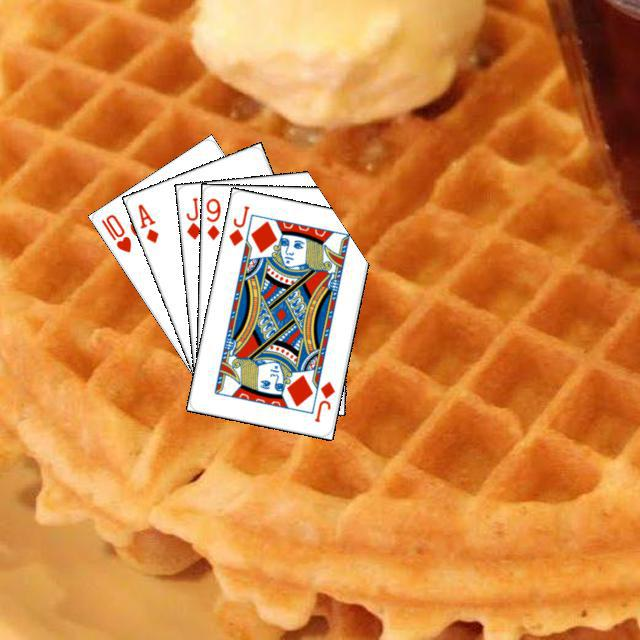10h: (96, 209, 133, 254)
9d: (202, 193, 222, 242)
Ad: (133, 199, 160, 245)
Jd: (309, 376, 336, 424), (224, 201, 251, 248), (181, 192, 203, 241)
